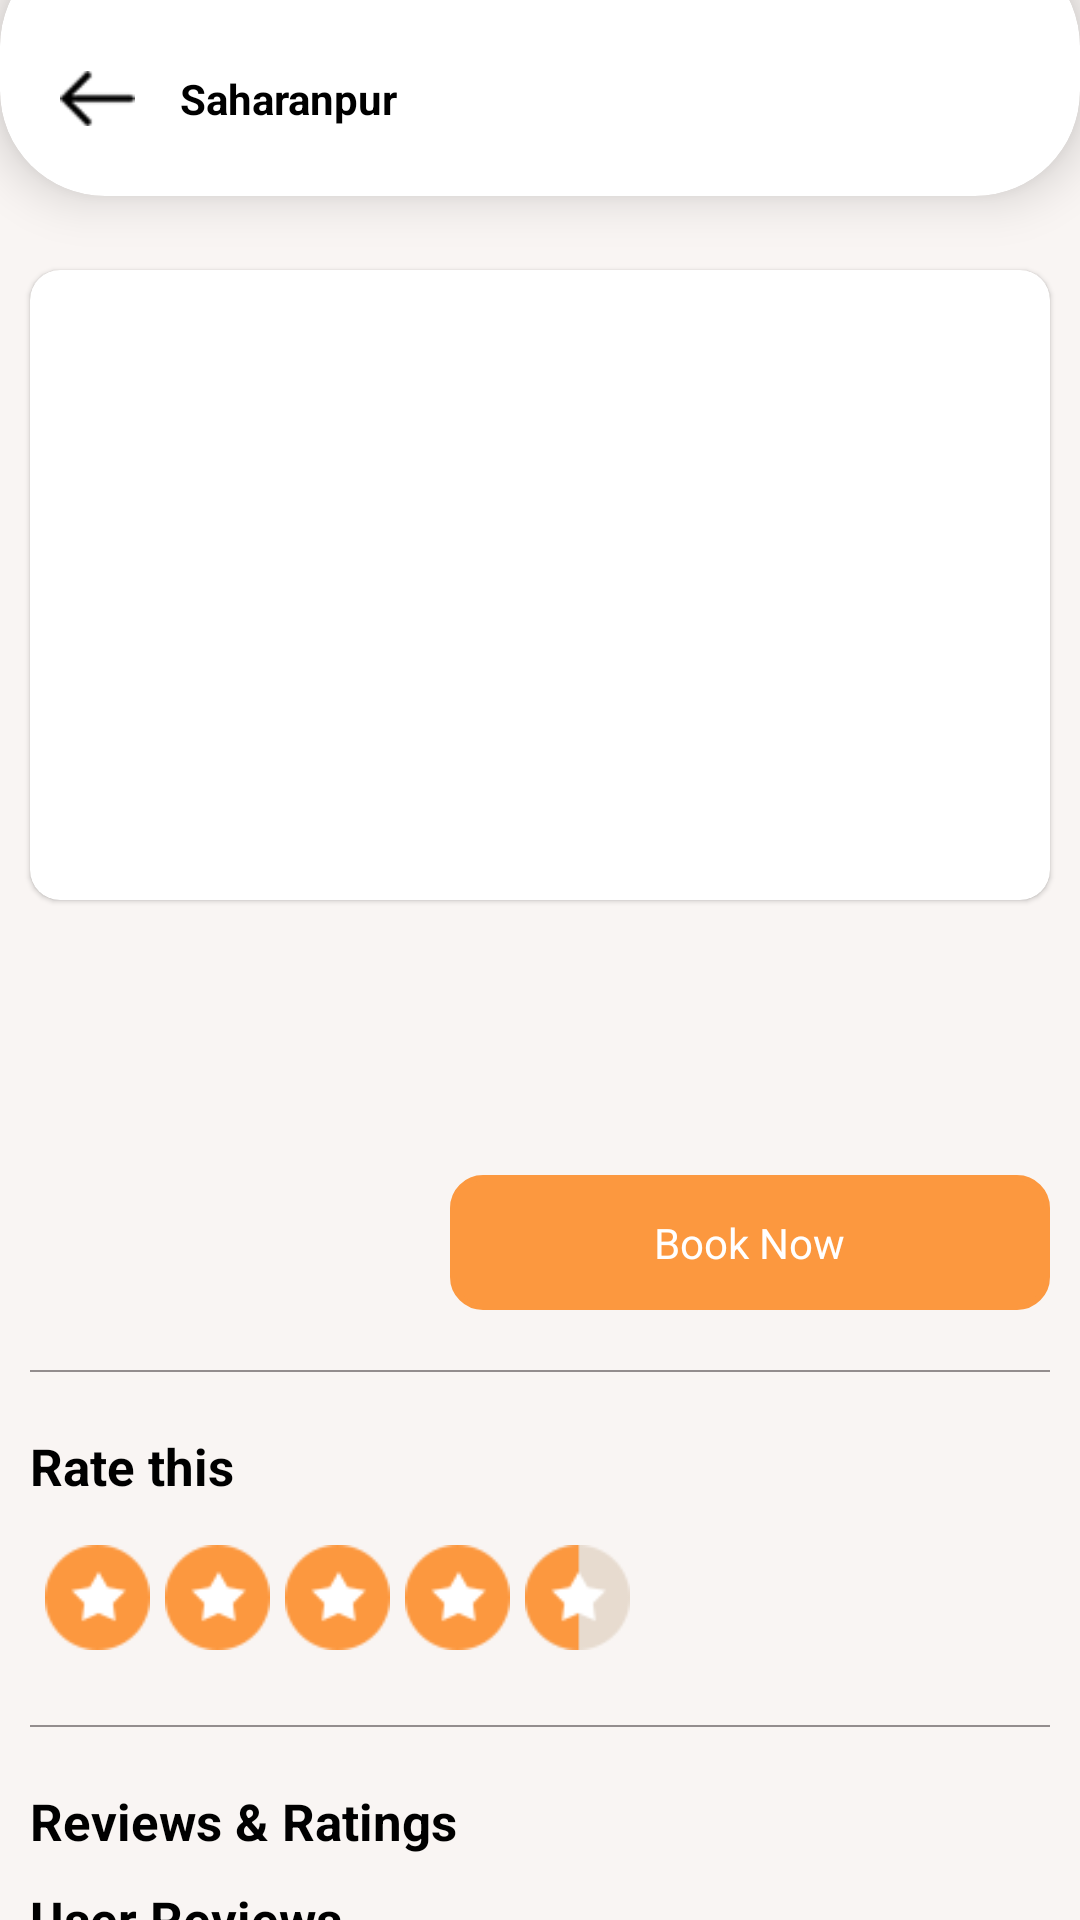

Icon bounding boxes for this 1080x1920 phone screenshot, format bbox=[x1, y1, x2, y2]:
back: bbox=[60, 71, 135, 126]
